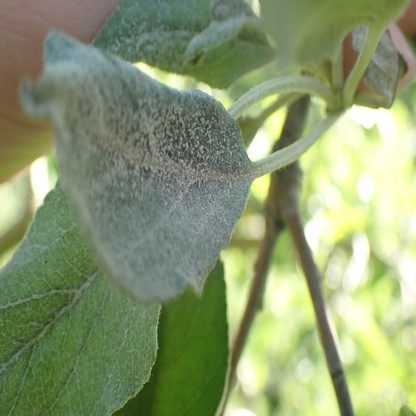powdery_mildew: (19, 27, 249, 299), (1, 180, 159, 416), (100, 5, 261, 63), (353, 25, 399, 105)
